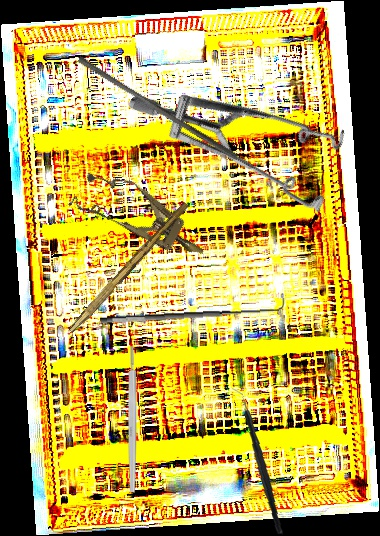Chopper: (218, 387, 296, 535)
Hook Surgical: (99, 293, 287, 326)
Pusher: (73, 55, 243, 161)
Scalpel Handle: (68, 199, 190, 337), (128, 346, 137, 492)
Speculum: (125, 8, 374, 266), (67, 159, 217, 276)
